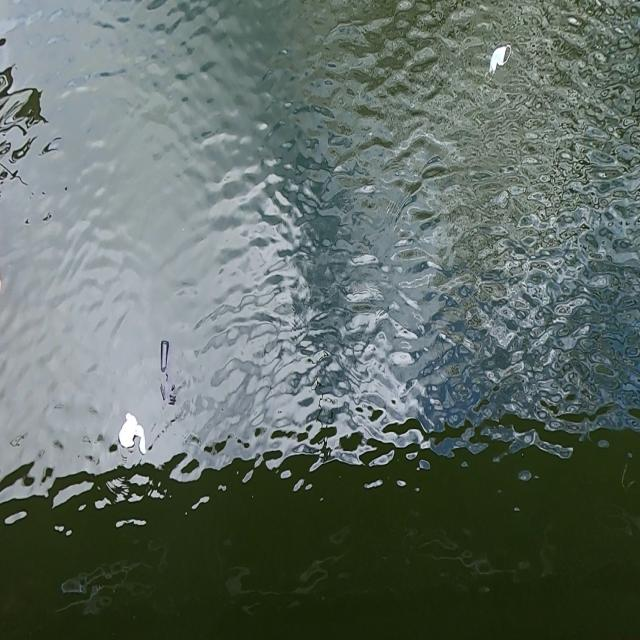Non plastique: (482, 38, 513, 83)
Sac plastique: (110, 407, 150, 461), (153, 337, 181, 406)
